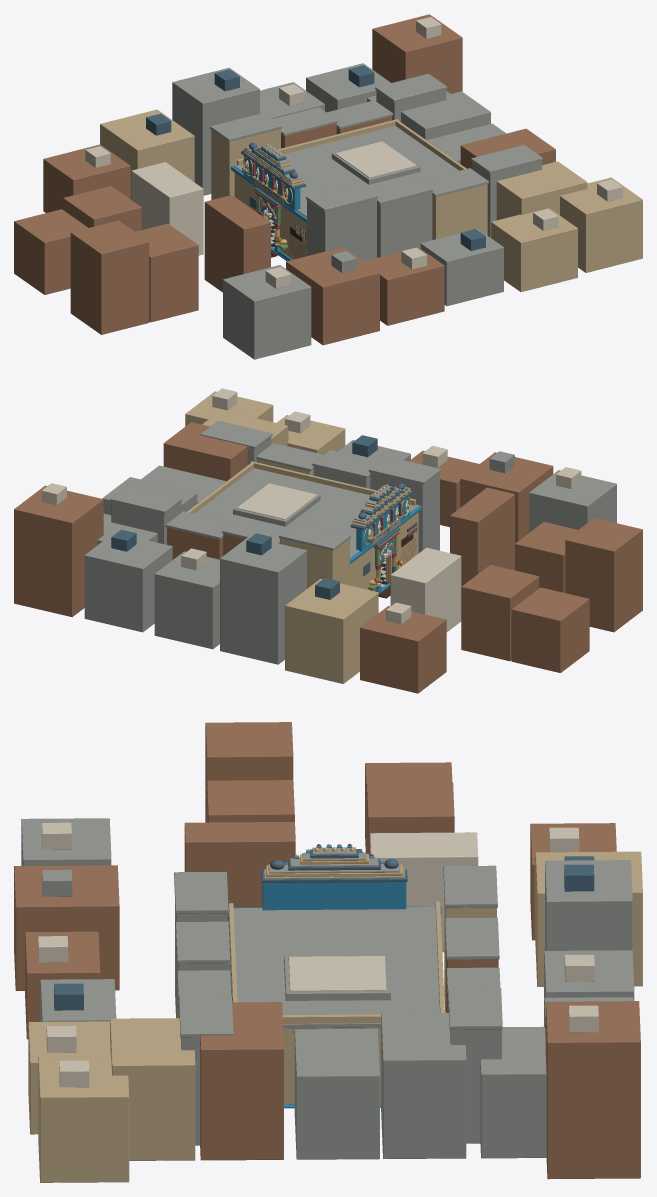
Rendered from kashi_vishalakshi_kshetra_full.glb.
3 renders of one model, top to bottom at view 1: azimuth 30°, elevation 25°; view 2: azimuth 150°, elevation 25°; view 3: azimuth 270°, elevation 25°, orthographic. The views are drawn at different scales.
Parts seen in each view (by area): view 1: Mir_Ghat_Lane_Turn_Mass.003, Old_City_Party_Wall_Roof_Block.006, Old_City_Party_Wall_Roof_Block.007, Old_City_Party_Wall_Roof_Block.011, Old_City_Party_Wall_Roof_Block.010, Old_City_Party_Wall_Roof_Block.002, Lane_Front_Brick_Building, Old_City_Party_Wall_Roof_Block.005, Temple_Flat_Roof, Mir_Ghat_Lane_Turn_Mass.002, Mir_Ghat_Lane_Turn_Mass.001, Lane_Front_Plaster_Building (+33 smaller); view 2: Old_City_Party_Wall_Roof_Block.005, Old_City_Party_Wall_Roof_Block.002, Mir_Ghat_Lane_Turn_Mass.003, Old_City_Party_Wall_Roof_Block.001, Old_City_Party_Wall_Roof_Block.004, Old_City_Party_Wall_Roof_Block, Mir_Ghat_Lane_Turn_Mass.001, Old_City_Party_Wall_Roof_Block.003, Mir_Ghat_Lane_Turn_Mass, Temple_Flat_Roof, Lane_Front_Brick_Building, Lane_Front_Plaster_Building (+44 smaller); view 3: Temple_Flat_Roof, Old_City_Party_Wall_Roof_Block.005, Lahori_Tola_Back_Roof_Mass.003, Lahori_Tola_Back_Roof_Mass.001, Lahori_Tola_Back_Roof_Mass.002, Old_City_Party_Wall_Roof_Block.011, Lahori_Tola_Back_Roof_Mass.004, Lahori_Tola_Back_Roof_Mass, Old_City_Party_Wall_Roof_Block.007, Old_City_Party_Wall_Roof_Block.002, Lane_Front_Brick_Building, Mir_Ghat_Lane_Turn_Mass.003 (+37 smaller).
Part boxes in pixels (x1,y1,x2,y2): Mir_Ghat_Lane_Turn_Mass.003: (70,220,149,334); Old_City_Party_Wall_Roof_Block.006: (223,265,311,359); Old_City_Party_Wall_Roof_Block.007: (286,247,379,345); Old_City_Party_Wall_Roof_Block.011: (560,177,642,272); Old_City_Party_Wall_Roof_Block.010: (491,208,577,291); Old_City_Party_Wall_Roof_Block.002: (172,67,259,195); Lane_Front_Brick_Building: (204,195,270,292); Old_City_Party_Wall_Roof_Block.005: (372,14,462,93); Temple_Flat_Roof: (234,126,458,217); Mir_Ghat_Lane_Turn_Mass.002: (135,223,198,322); Mir_Ghat_Lane_Turn_Mass.001: (14,209,87,294); Lane_Front_Plaster_Building: (131,162,203,255); Old_City_Party_Wall_Roof_Block.005: (14,485,103,617); Old_City_Party_Wall_Roof_Block.002: (220,536,306,664); Mir_Ghat_Lane_Turn_Mass.003: (565,518,642,632); Old_City_Party_Wall_Roof_Block.001: (285,578,378,683); Old_City_Party_Wall_Roof_Block.004: (84,532,172,632); Old_City_Party_Wall_Roof_Block: (360,606,446,693); Mir_Ghat_Lane_Turn_Mass.001: (511,587,589,672); Old_City_Party_Wall_Roof_Block.003: (154,551,219,649); Mir_Ghat_Lane_Turn_Mass: (461,565,539,661); Temple_Flat_Roof: (194,468,419,558); Lane_Front_Brick_Building: (450,487,514,586); Lane_Front_Plaster_Building: (390,547,461,631); Temple_Flat_Roof: (228,906,444,1028); Old_City_Party_Wall_Roof_Block.005: (545,1001,640,1179); Lahori_Tola_Back_Roof_Mass.003: (200,1002,283,1160); Lahori_Tola_Back_Roof_Mass.001: (381,1013,466,1158); Lahori_Tola_Back_Roof_Mass.002: (294,1028,379,1159); Old_City_Party_Wall_Roof_Block.011: (38,1056,129,1182); Lahori_Tola_Back_Roof_Mass.004: (110,1018,195,1160); Lahori_Tola_Back_Roof_Mass: (480,1026,546,1158); Old_City_Party_Wall_Roof_Block.007: (14,865,119,990); Old_City_Party_Wall_Roof_Block.002: (545,860,632,950); Lane_Front_Brick_Building: (184,822,295,934); Mir_Ghat_Lane_Turn_Mass.003: (205,722,293,822).
Size of what is drawn, in the model's own units: 39.12 by 8.1 by 30.17.
117 materials, 2 textured.
